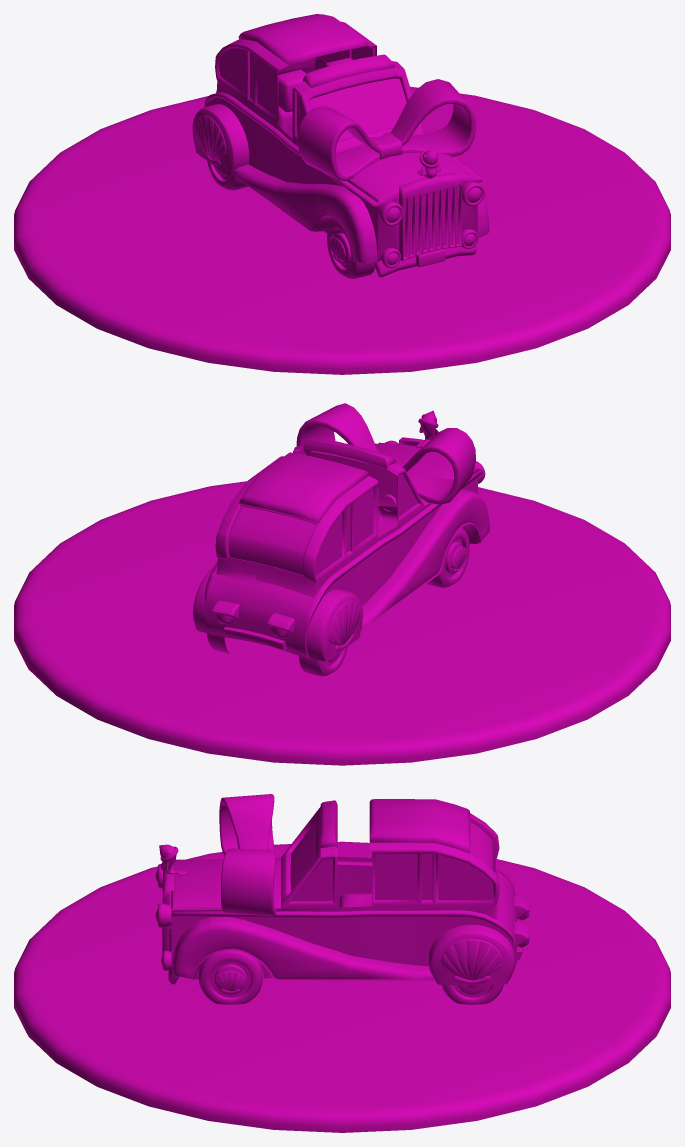
The model's file is SM_Car.fbx.
3 views of the same model, one above another, from view 1: azimuth 30°, elevation 25°; view 2: azimuth 150°, elevation 25°; view 3: azimuth 270°, elevation 25° (orthographic).
Parts seen in each view (by area): view 1: SM_Car; view 2: SM_Car; view 3: SM_Car.
Part boxes in pixels (bbox=[...]): SM_Car: bbox=[14, 14, 670, 374]; SM_Car: bbox=[14, 403, 670, 765]; SM_Car: bbox=[14, 794, 670, 1132].
Bounding box in the file's own units: 1068 × 317 × 1062.
